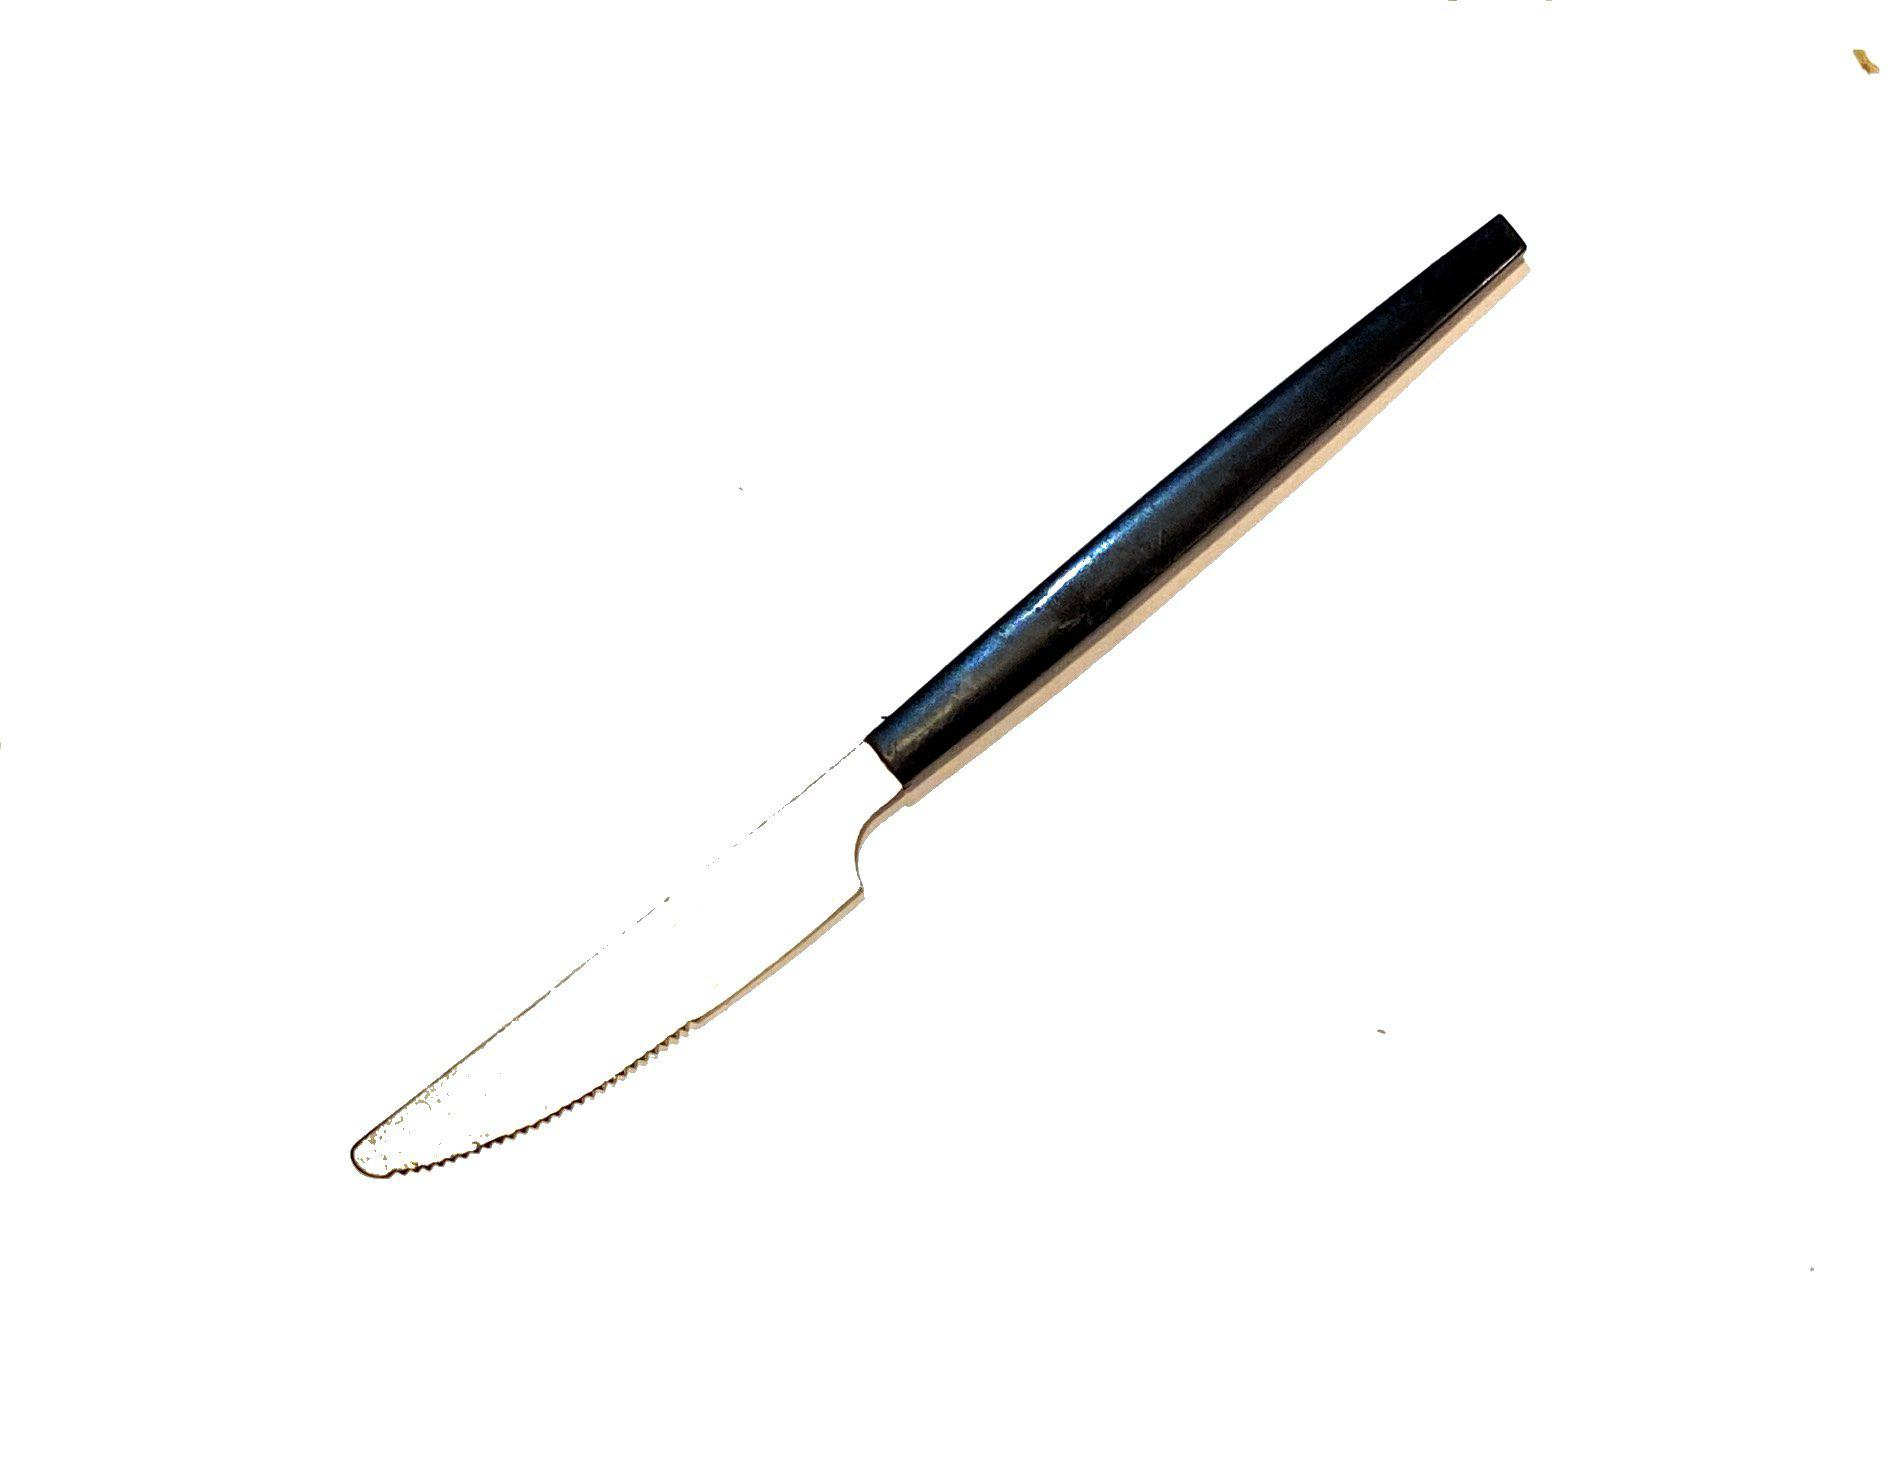Knife: (294, 141, 1596, 1309)
